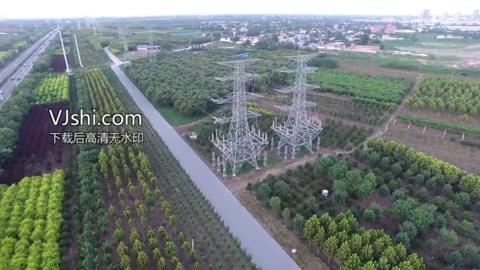tower_body: (208, 54, 268, 176), (273, 51, 331, 161)
tower_foot: (218, 131, 263, 174), (272, 124, 326, 159)
tower_head: (215, 57, 262, 81), (277, 53, 326, 74)
